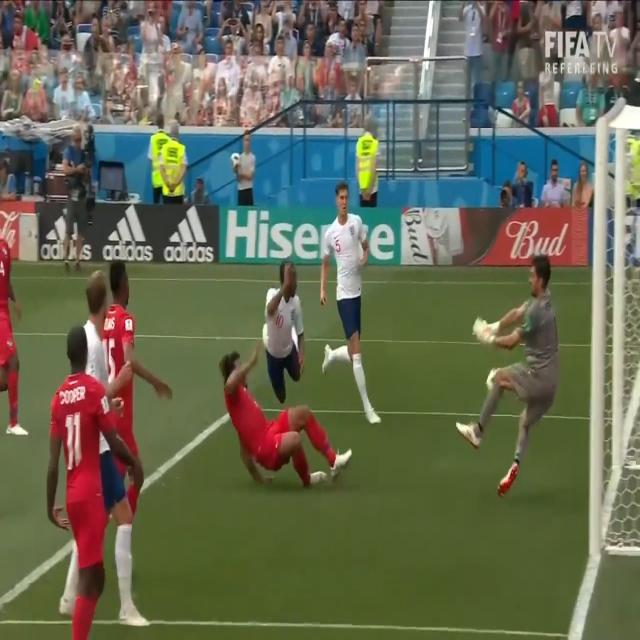player: (44, 329, 134, 638), (216, 349, 354, 491), (322, 183, 383, 431), (106, 251, 173, 461), (264, 251, 306, 408), (0, 223, 30, 438), (80, 264, 109, 373)
